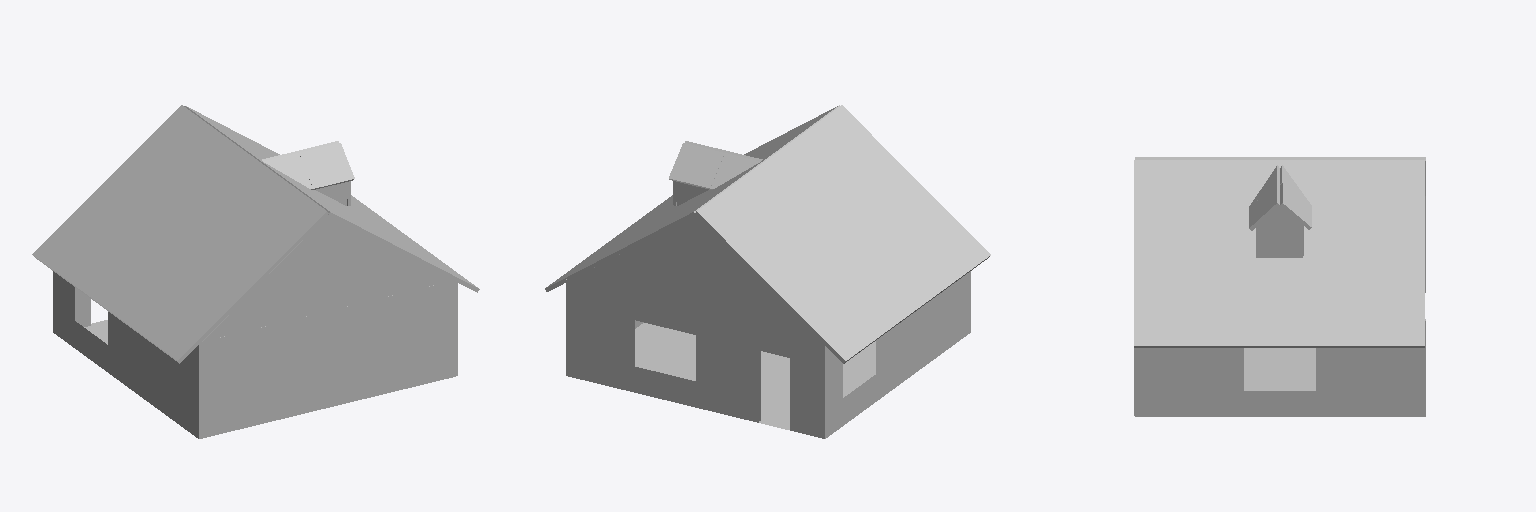
File: casita.obj
3 renders of one model, left to right at view 1: azimuth 30°, elevation 25°; view 2: azimuth 150°, elevation 25°; view 3: azimuth 270°, elevation 25°, orthographic.
Visible parts, largest first — view 1: Cubo.019_Cubo.017; view 2: Cubo.019_Cubo.017; view 3: Cubo.019_Cubo.017.
Part boxes in pixels (left/top/right/bottom): Cubo.019_Cubo.017: left=32, top=105, right=479, bottom=438; Cubo.019_Cubo.017: left=545, top=105, right=990, bottom=438; Cubo.019_Cubo.017: left=1134, top=157, right=1425, bottom=416.
Size of the model in its own units: 265 by 165 by 222.